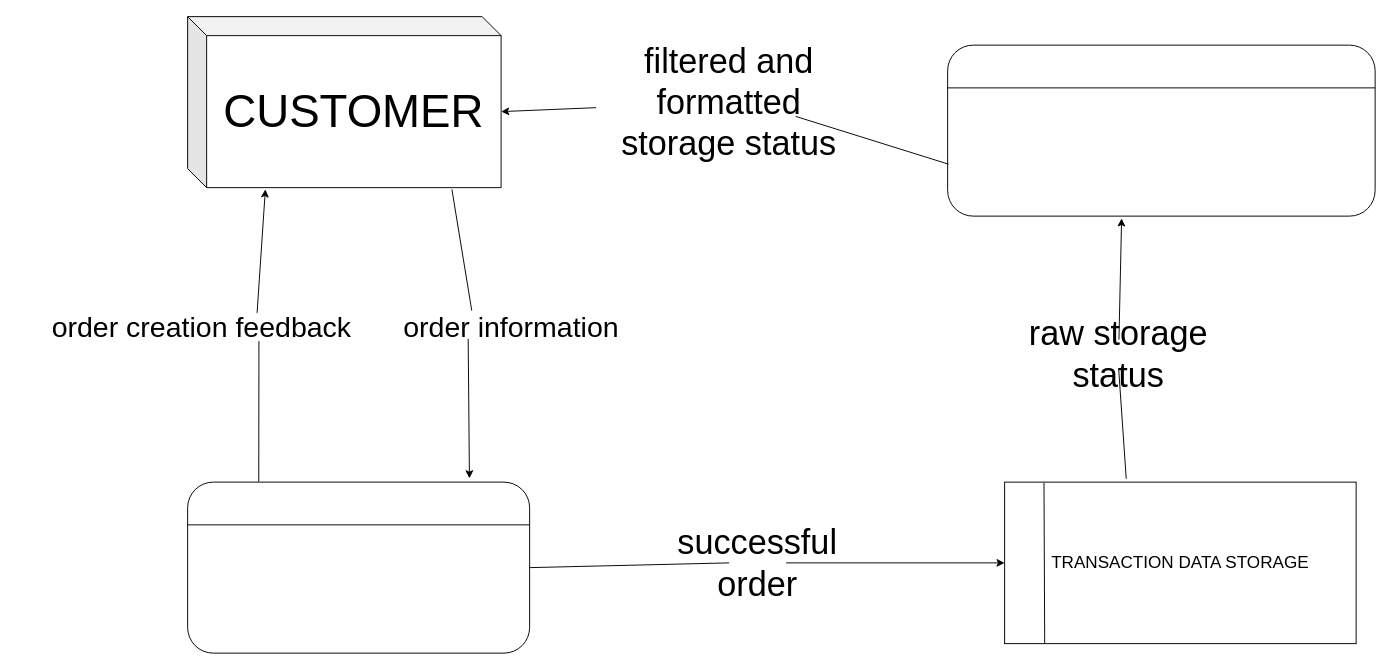
Image size: 1393x670. Some labels were removed from this diagram. The shapes that lost their labels are listed below. From the top down, each one's centre as x and y in pixels, then its label:
At point 1161,130: "Notify user for current status of transaction data storage".
At point 358,567: "CREATE AN ORDER".
